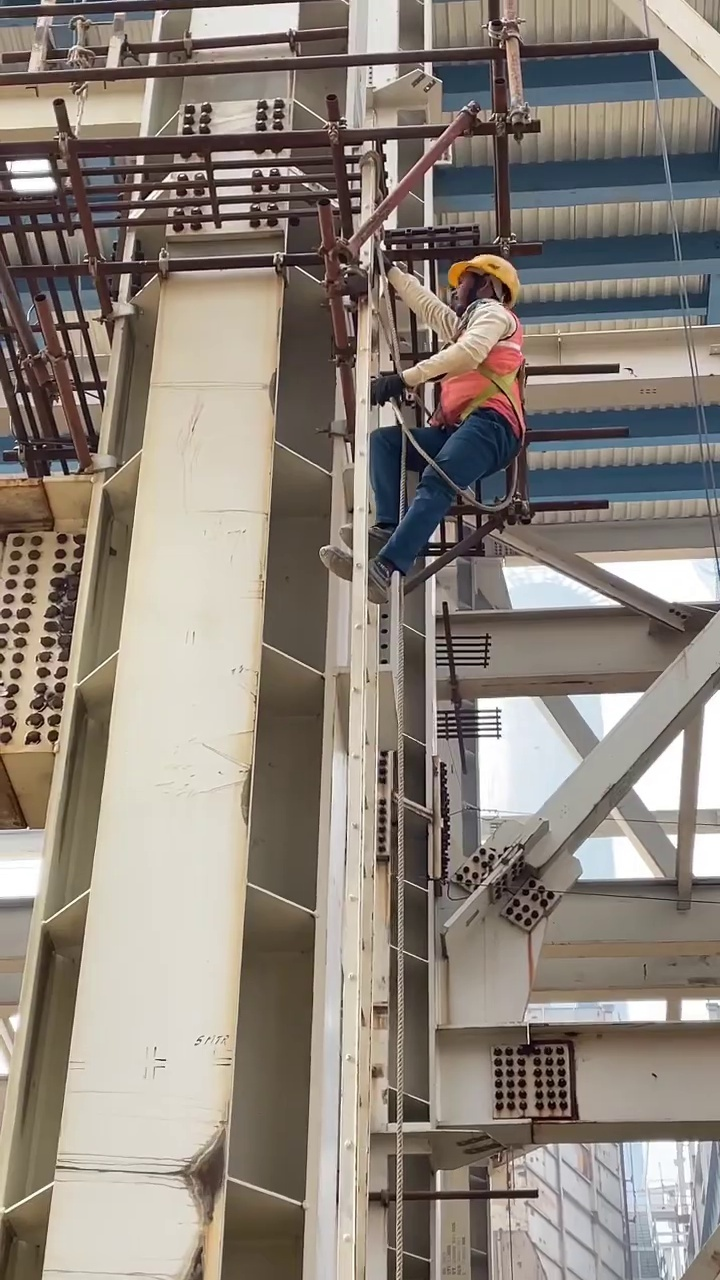Helmet: (451, 252, 523, 291)
Person: (314, 250, 525, 604)
Safety_Harness: (412, 299, 527, 508)
Safety_shoes: (317, 540, 389, 603), (340, 524, 396, 553)
